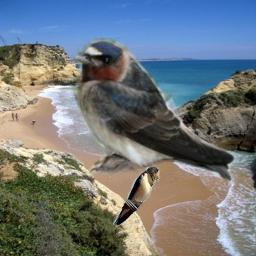Swallow: (71, 37, 237, 183), (113, 167, 160, 225)
